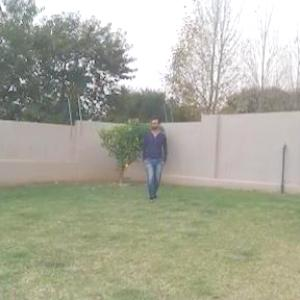follow: (142, 117, 164, 205)
